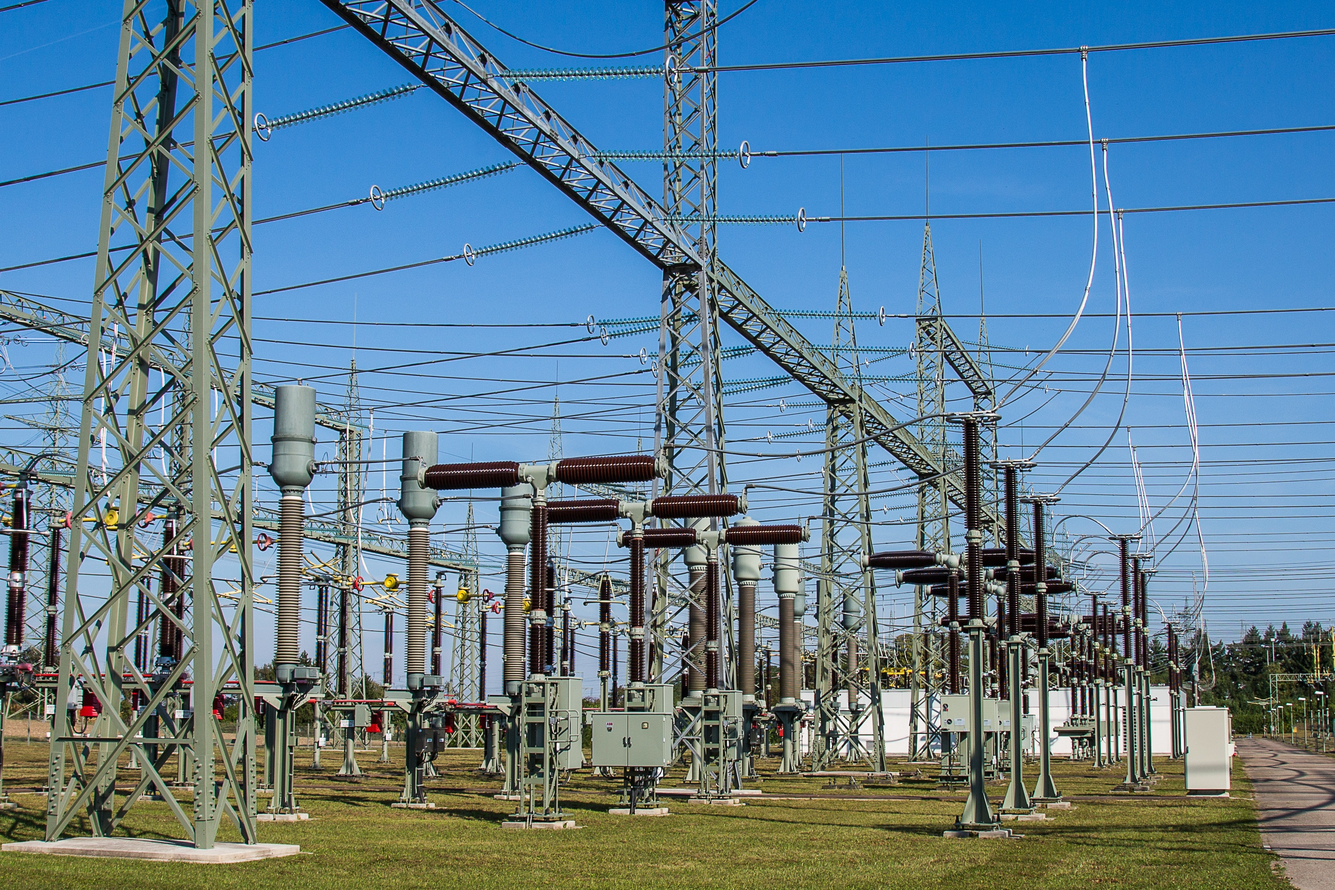insulator: (259, 80, 421, 132), (377, 156, 518, 202), (466, 219, 600, 257), (596, 310, 713, 344), (491, 64, 688, 84), (655, 208, 805, 231), (588, 145, 748, 165), (838, 364, 947, 389), (653, 341, 753, 368), (699, 375, 789, 402), (759, 307, 888, 321), (599, 313, 724, 324), (765, 422, 840, 440), (805, 344, 911, 356), (776, 396, 838, 413)
